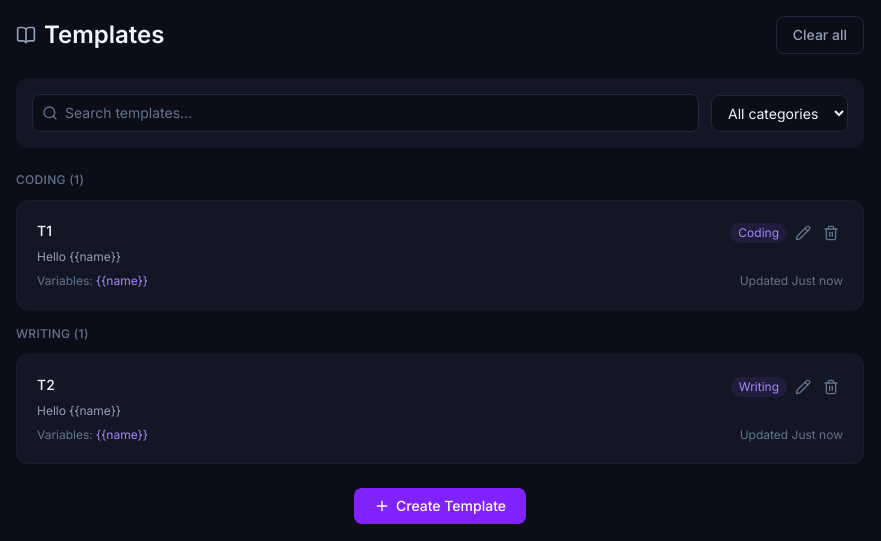
TemplateLibraryPage › category dropdown filter (TC-L-07)
Select "Coding" in the dropdown showing "All categories": (780,113) [711,94,848,132]
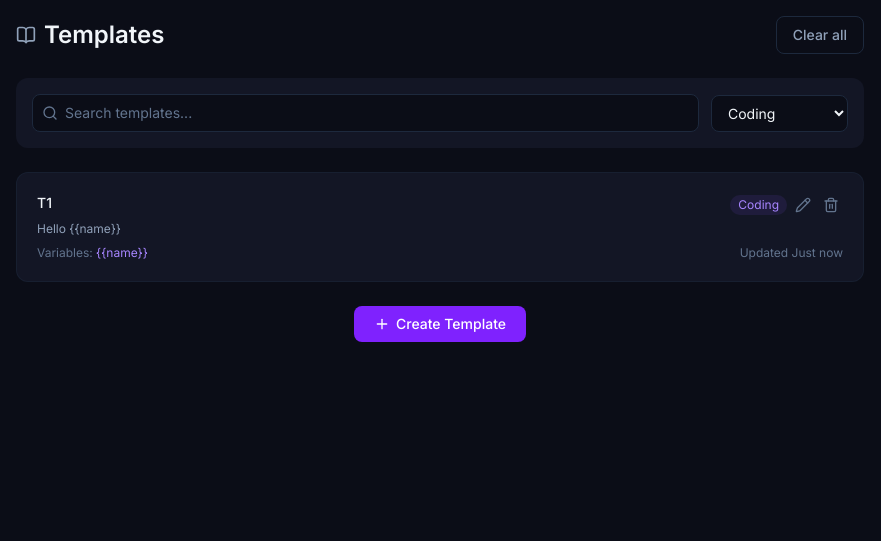
Expected: the text "T1" is shown, [37,193,52,213]
Expected: the text "T2" is gone
